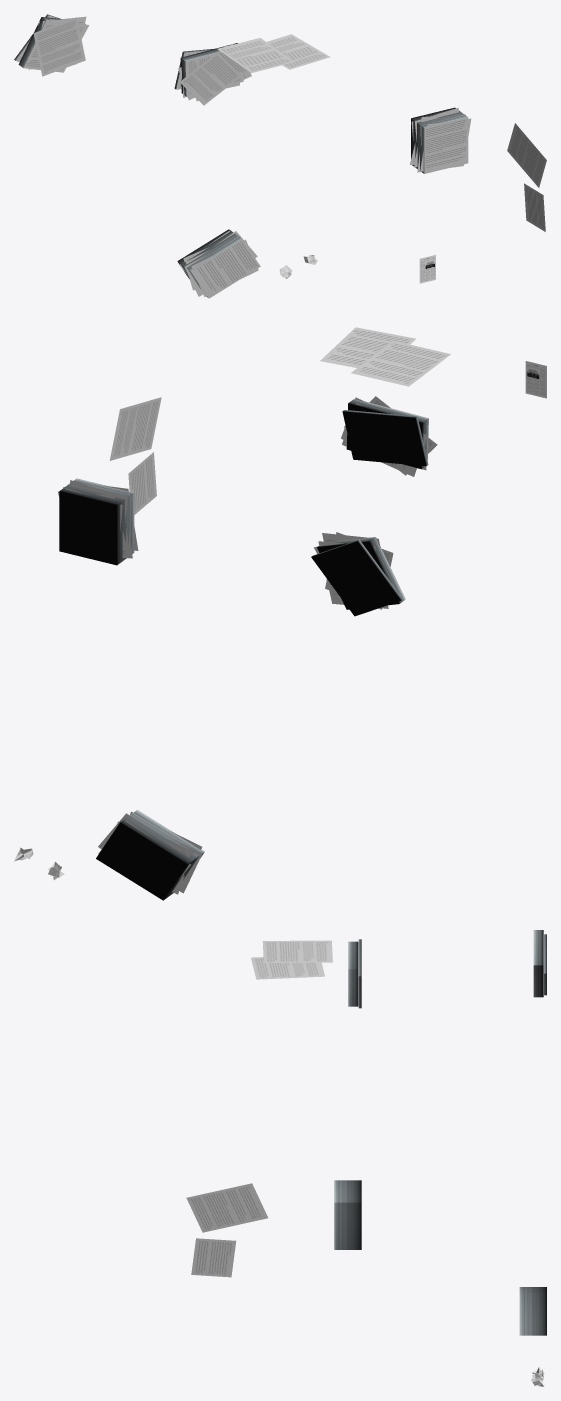
File: PAPEIS.glb
3 renders of one model, top to bottom at view 1: azimuth 30°, elevation 25°; view 2: azimuth 150°, elevation 25°; view 3: azimuth 270°, elevation 25°, orthographic. The views are drawn at different scales.
Visible parts, largest first — view 1: Stack of Papers_Stack of Papers_0.007, Stack of Papers_Stack of Papers_0.005, Stack of Papers_Stack of Papers_0.006, Stack of Papers_Stack of Papers_0.004, Stack of Papers_Stack of Papers_0.001, Stack of Papers_Stack of Papers_0.002, Stack of Papers_Stack of Papers_0.003, Stack of Papers_Stack of Papers_0, NEWS_NEWS_0.001; view 2: Stack of Papers_Stack of Papers_0.007, Stack of Papers_Stack of Papers_0.005, Stack of Papers_Stack of Papers_0.006, Stack of Papers_Stack of Papers_0.001, Stack of Papers_Stack of Papers_0, Stack of Papers_Stack of Papers_0.004, Stack of Papers_Stack of Papers_0.002, Stack of Papers_Stack of Papers_0.003, NEWS_NEWS_0.001; view 3: Stack of Papers_Stack of Papers_0.001, Stack of Papers_Stack of Papers_0.002, Stack of Papers_Stack of Papers_0.005, Stack of Papers_Stack of Papers_0.003, Stack of Papers_Stack of Papers_0.007, Stack of Papers_Stack of Papers_0, Stack of Papers_Stack of Papers_0.006.
Part boxes in pixels (<box>): Stack of Papers_Stack of Papers_0.007: <box>177,229,260,298</box>; Stack of Papers_Stack of Papers_0.005: <box>409,107,471,173</box>; Stack of Papers_Stack of Papers_0.006: <box>15,14,89,76</box>; Stack of Papers_Stack of Papers_0.004: <box>174,44,251,105</box>; Stack of Papers_Stack of Papers_0.001: <box>217,34,330,72</box>; Stack of Papers_Stack of Papers_0.002: <box>507,123,546,187</box>; Stack of Papers_Stack of Papers_0.003: <box>524,183,545,231</box>; Stack of Papers_Stack of Papers_0: <box>14,17,237,67</box>; NEWS_NEWS_0.001: <box>419,255,435,283</box>; Stack of Papers_Stack of Papers_0.007: <box>96,810,204,900</box>; Stack of Papers_Stack of Papers_0.005: <box>58,478,138,565</box>; Stack of Papers_Stack of Papers_0.006: <box>311,532,400,616</box>; Stack of Papers_Stack of Papers_0.001: <box>320,327,450,386</box>; Stack of Papers_Stack of Papers_0: <box>342,398,428,603</box>; Stack of Papers_Stack of Papers_0.004: <box>341,396,437,476</box>; Stack of Papers_Stack of Papers_0.002: <box>109,397,161,460</box>; Stack of Papers_Stack of Papers_0.003: <box>128,452,156,514</box>; NEWS_NEWS_0.001: <box>525,361,546,398</box>; Stack of Papers_Stack of Papers_0.001: <box>251,940,332,979</box>; Stack of Papers_Stack of Papers_0.002: <box>186,1183,267,1232</box>; Stack of Papers_Stack of Papers_0.005: <box>334,1180,361,1249</box>; Stack of Papers_Stack of Papers_0.003: <box>191,1238,236,1277</box>; Stack of Papers_Stack of Papers_0.007: <box>519,1287,546,1335</box>; Stack of Papers_Stack of Papers_0: <box>348,939,361,1008</box>; Stack of Papers_Stack of Papers_0.006: <box>533,930,546,997</box>.
Size of the model in its own units: 16.31 by 14.91 by 20.33.
Materials: 2 (2 with a texture image).
